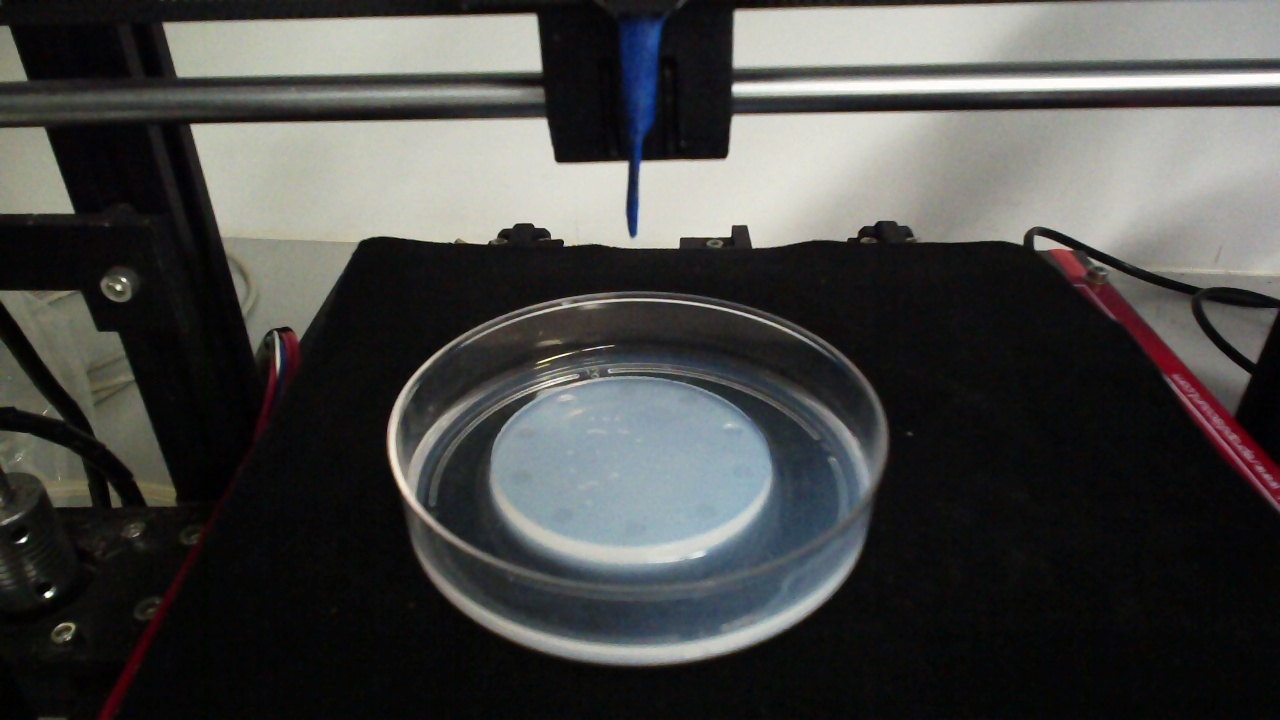groove: (507, 467, 534, 486), (547, 505, 574, 523), (623, 519, 647, 539), (729, 462, 756, 479), (720, 423, 746, 440), (696, 502, 721, 519), (615, 381, 641, 397), (512, 424, 537, 440), (555, 393, 579, 409), (675, 391, 699, 407)
needle: (621, 19, 659, 238)
